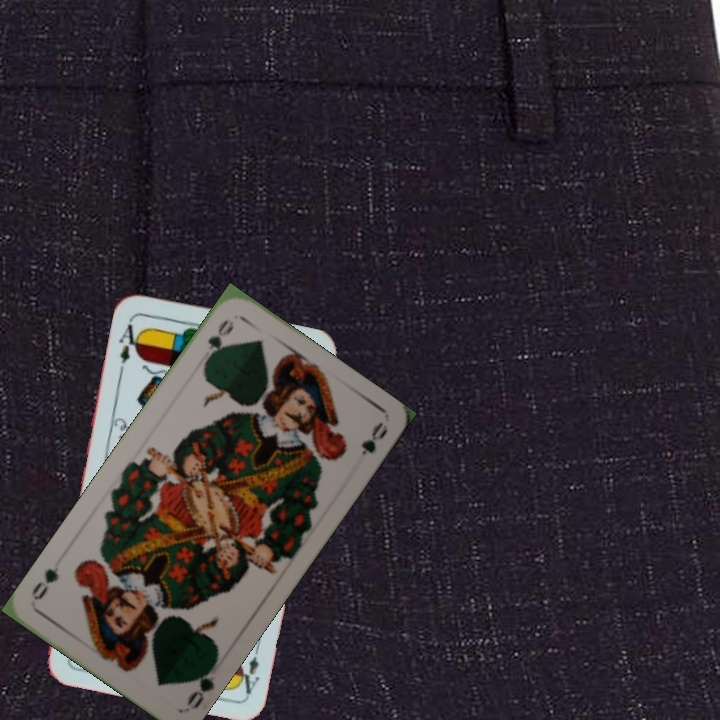EA: (114, 315, 145, 374), (233, 638, 264, 697)
GO: (182, 658, 220, 712), (199, 315, 237, 367)
